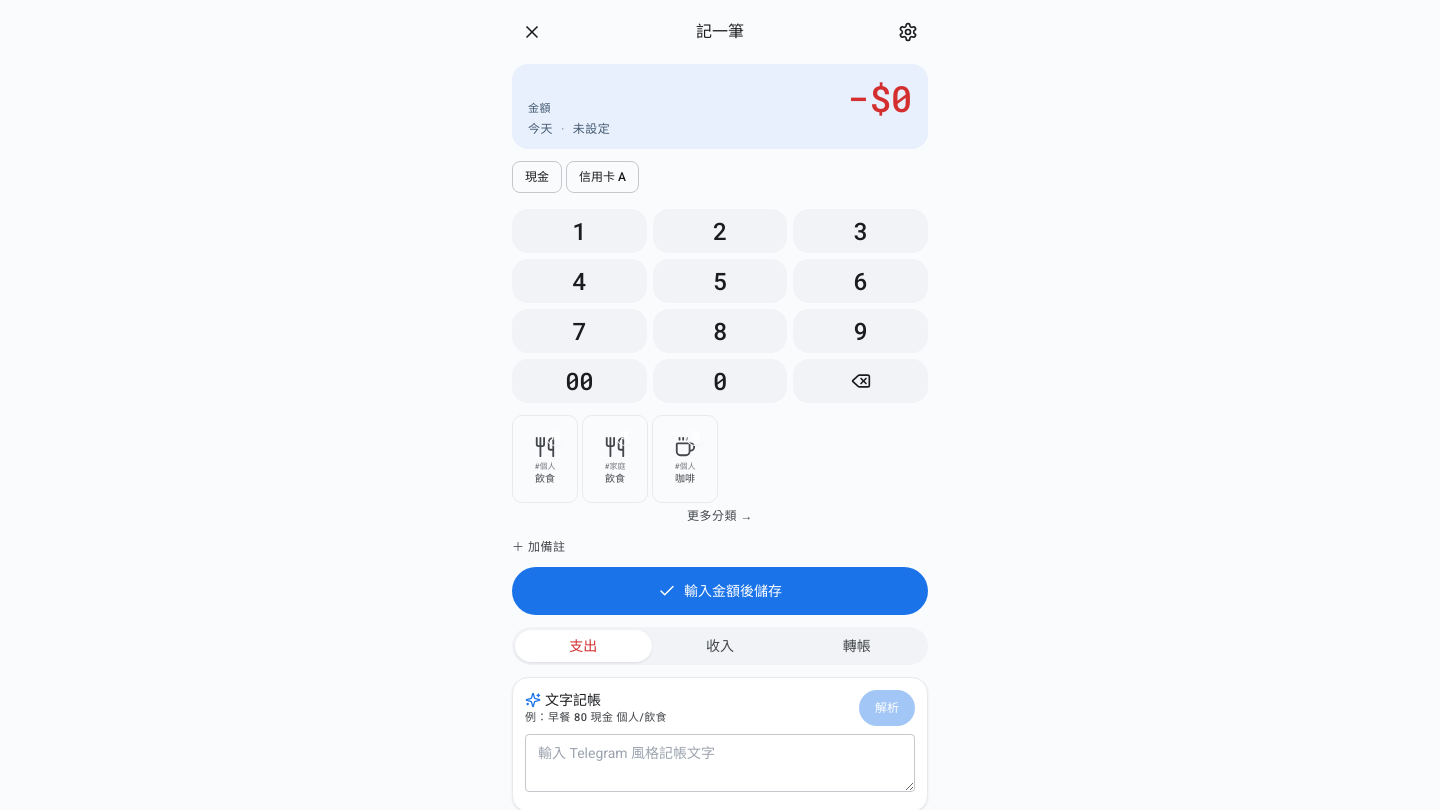
Scenario: QuickEntryPage (M3 v2.0) › opens payment method modal when payment chip is clicked
Step 1. Click the button with aria-label "支付方式" → (592, 129), box left=573, top=121, right=610, bottom=137
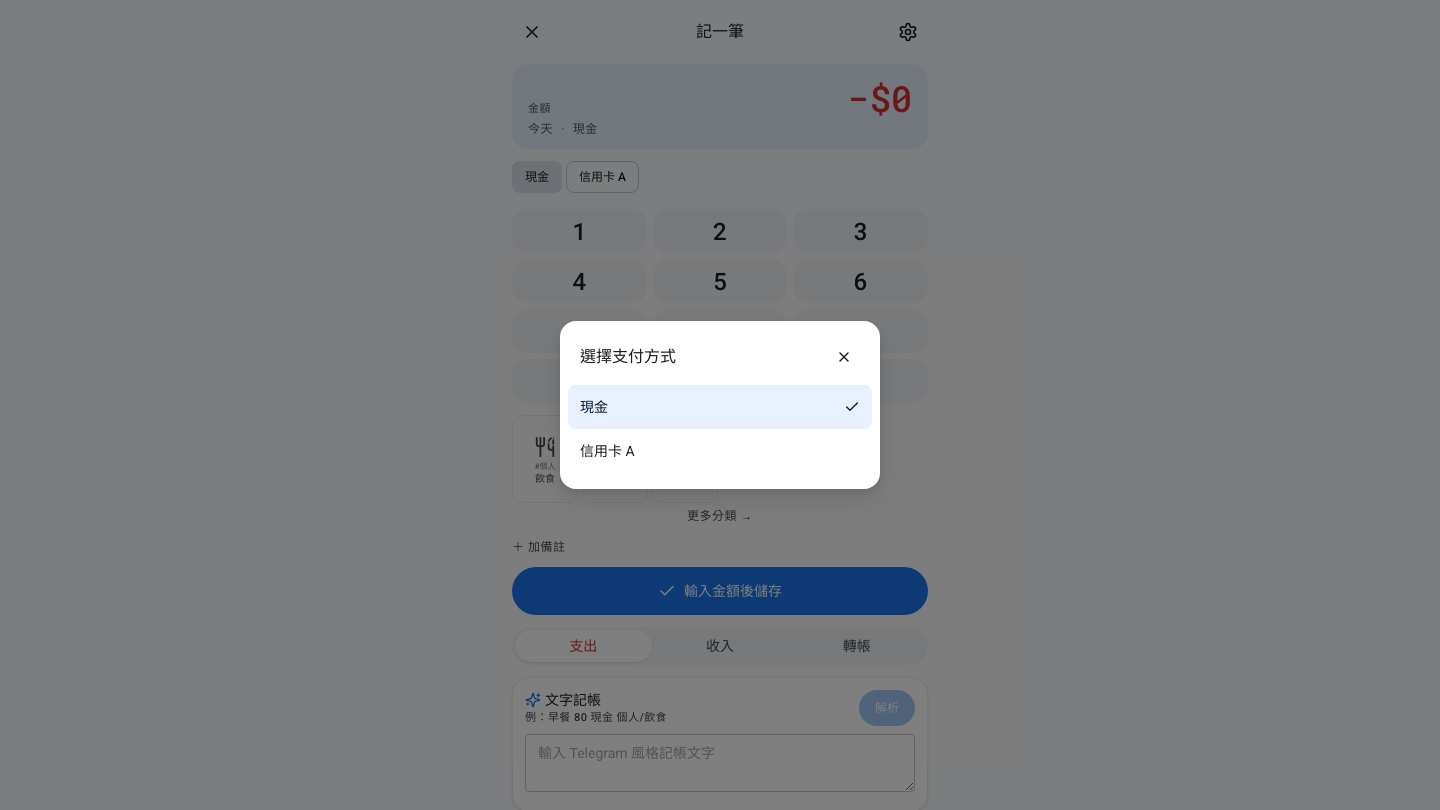
Check: the dialog "選擇支付方式" is shown
